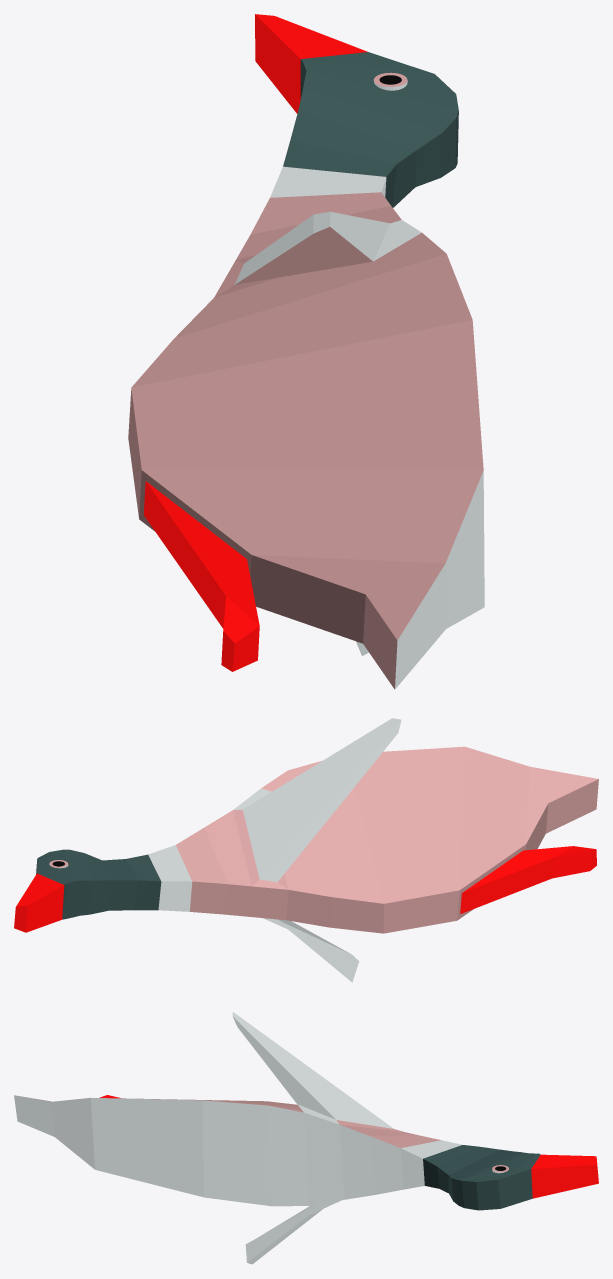
3 renders of one model, top to bottom at view 1: azimuth 30°, elevation 25°; view 2: azimuth 150°, elevation 25°; view 3: azimuth 270°, elevation 25°, orthographic. The views are drawn at different scales.
Parts seen in each view (by area): view 1: Plane; view 2: Plane; view 3: Plane.
Part boxes in pixels (left/top/right/bottom): Plane: left=128, top=14, right=484, bottom=689; Plane: left=14, top=718, right=598, bottom=982; Plane: left=14, top=1012, right=598, bottom=1264.
Size of the model in its own units: 7.57 by 5.67 by 12.7.
